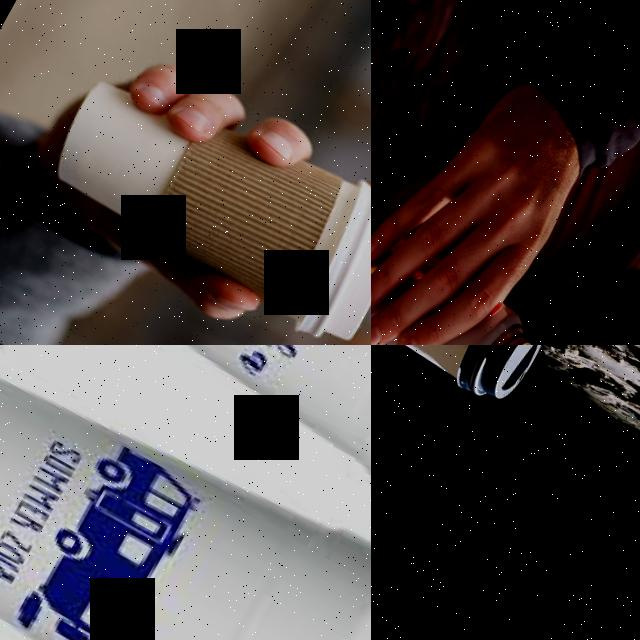can: (371, 221, 553, 345)
cup: (0, 345, 371, 640), (27, 35, 371, 345), (0, 345, 371, 554)
